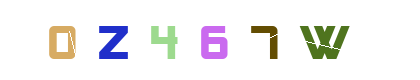0: (31, 0, 111, 80)
4: (150, 0, 230, 80)
6: (170, 0, 250, 80)
7: (171, 0, 251, 80)
W: (268, 0, 348, 80)
Z: (73, 0, 153, 80)
